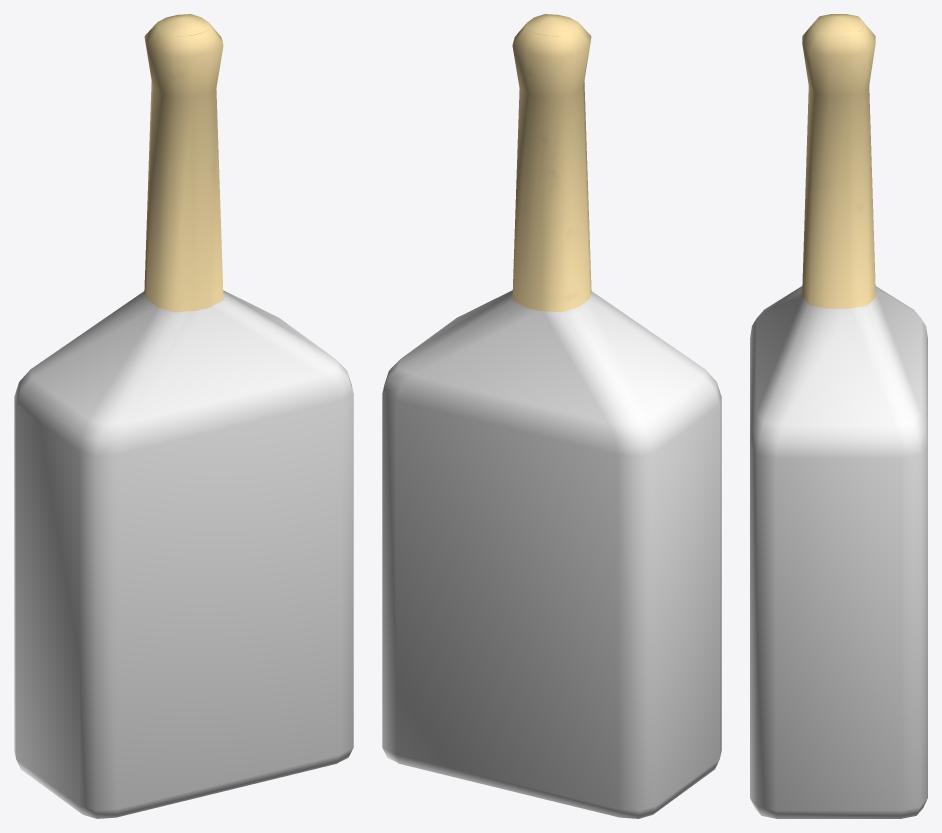
Rendered from connector.fbx.
The picture shows the model from 3 angles, left to right: view 1: azimuth 30°, elevation 25°; view 2: azimuth 150°, elevation 25°; view 3: azimuth 270°, elevation 25°; orthographic projection.
Parts seen in each view (by area): view 1: Connector; view 2: Connector; view 3: Connector.
Boxes of the visible parts, x1=… form: Connector: x1=14, y1=14, x2=353, y2=818; Connector: x1=382, y1=14, x2=721, y2=818; Connector: x1=750, y1=14, x2=927, y2=818.
Bounding box in the file's own units: 5.28 × 13.8 × 3.
1 material, 1 textured.
